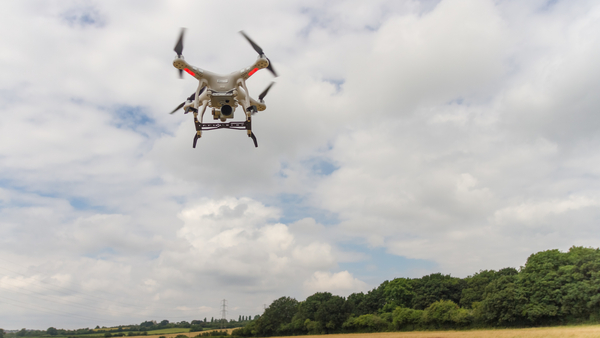drone: (167, 26, 281, 152)
